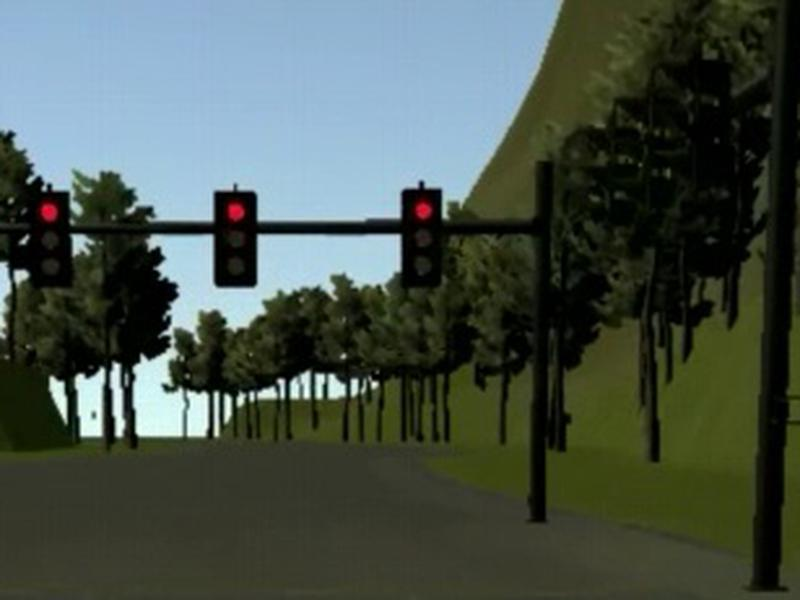Red: (28, 190, 74, 288), (213, 190, 257, 288), (401, 187, 440, 287)
